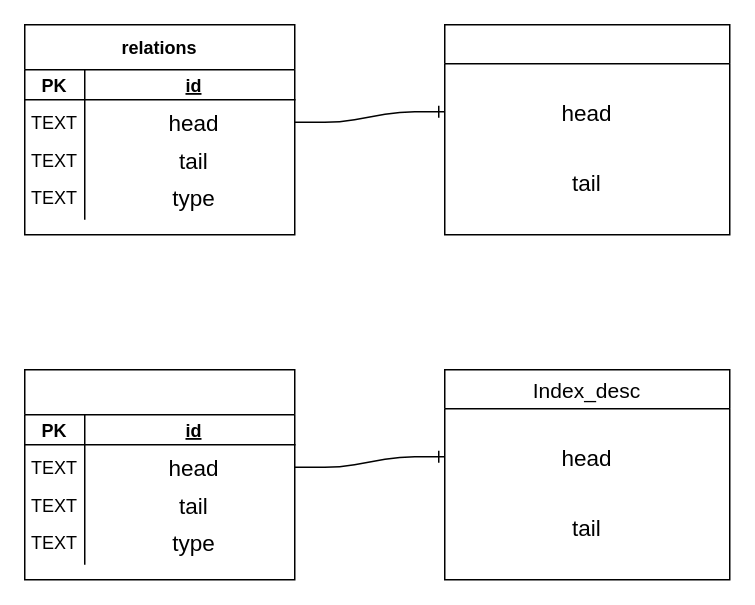
This 755x605 diagram has some shape labels left out. The box of each missing label's shape, as (x1, y1, x2, y2) in pixels:
Index: (443, 23, 730, 235)
relations_desc: (23, 368, 295, 580)
